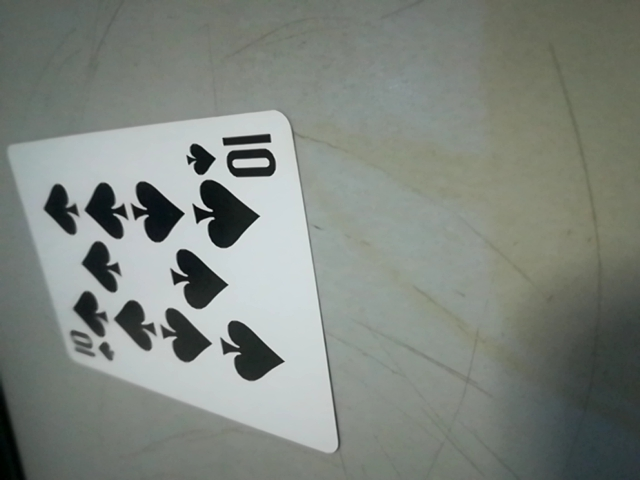ht 10: (188, 126, 277, 193)
